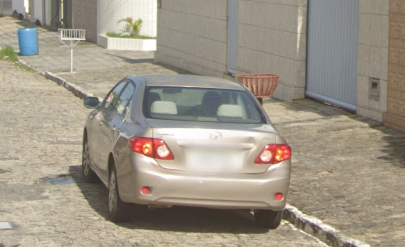car: (79, 70, 295, 230)
